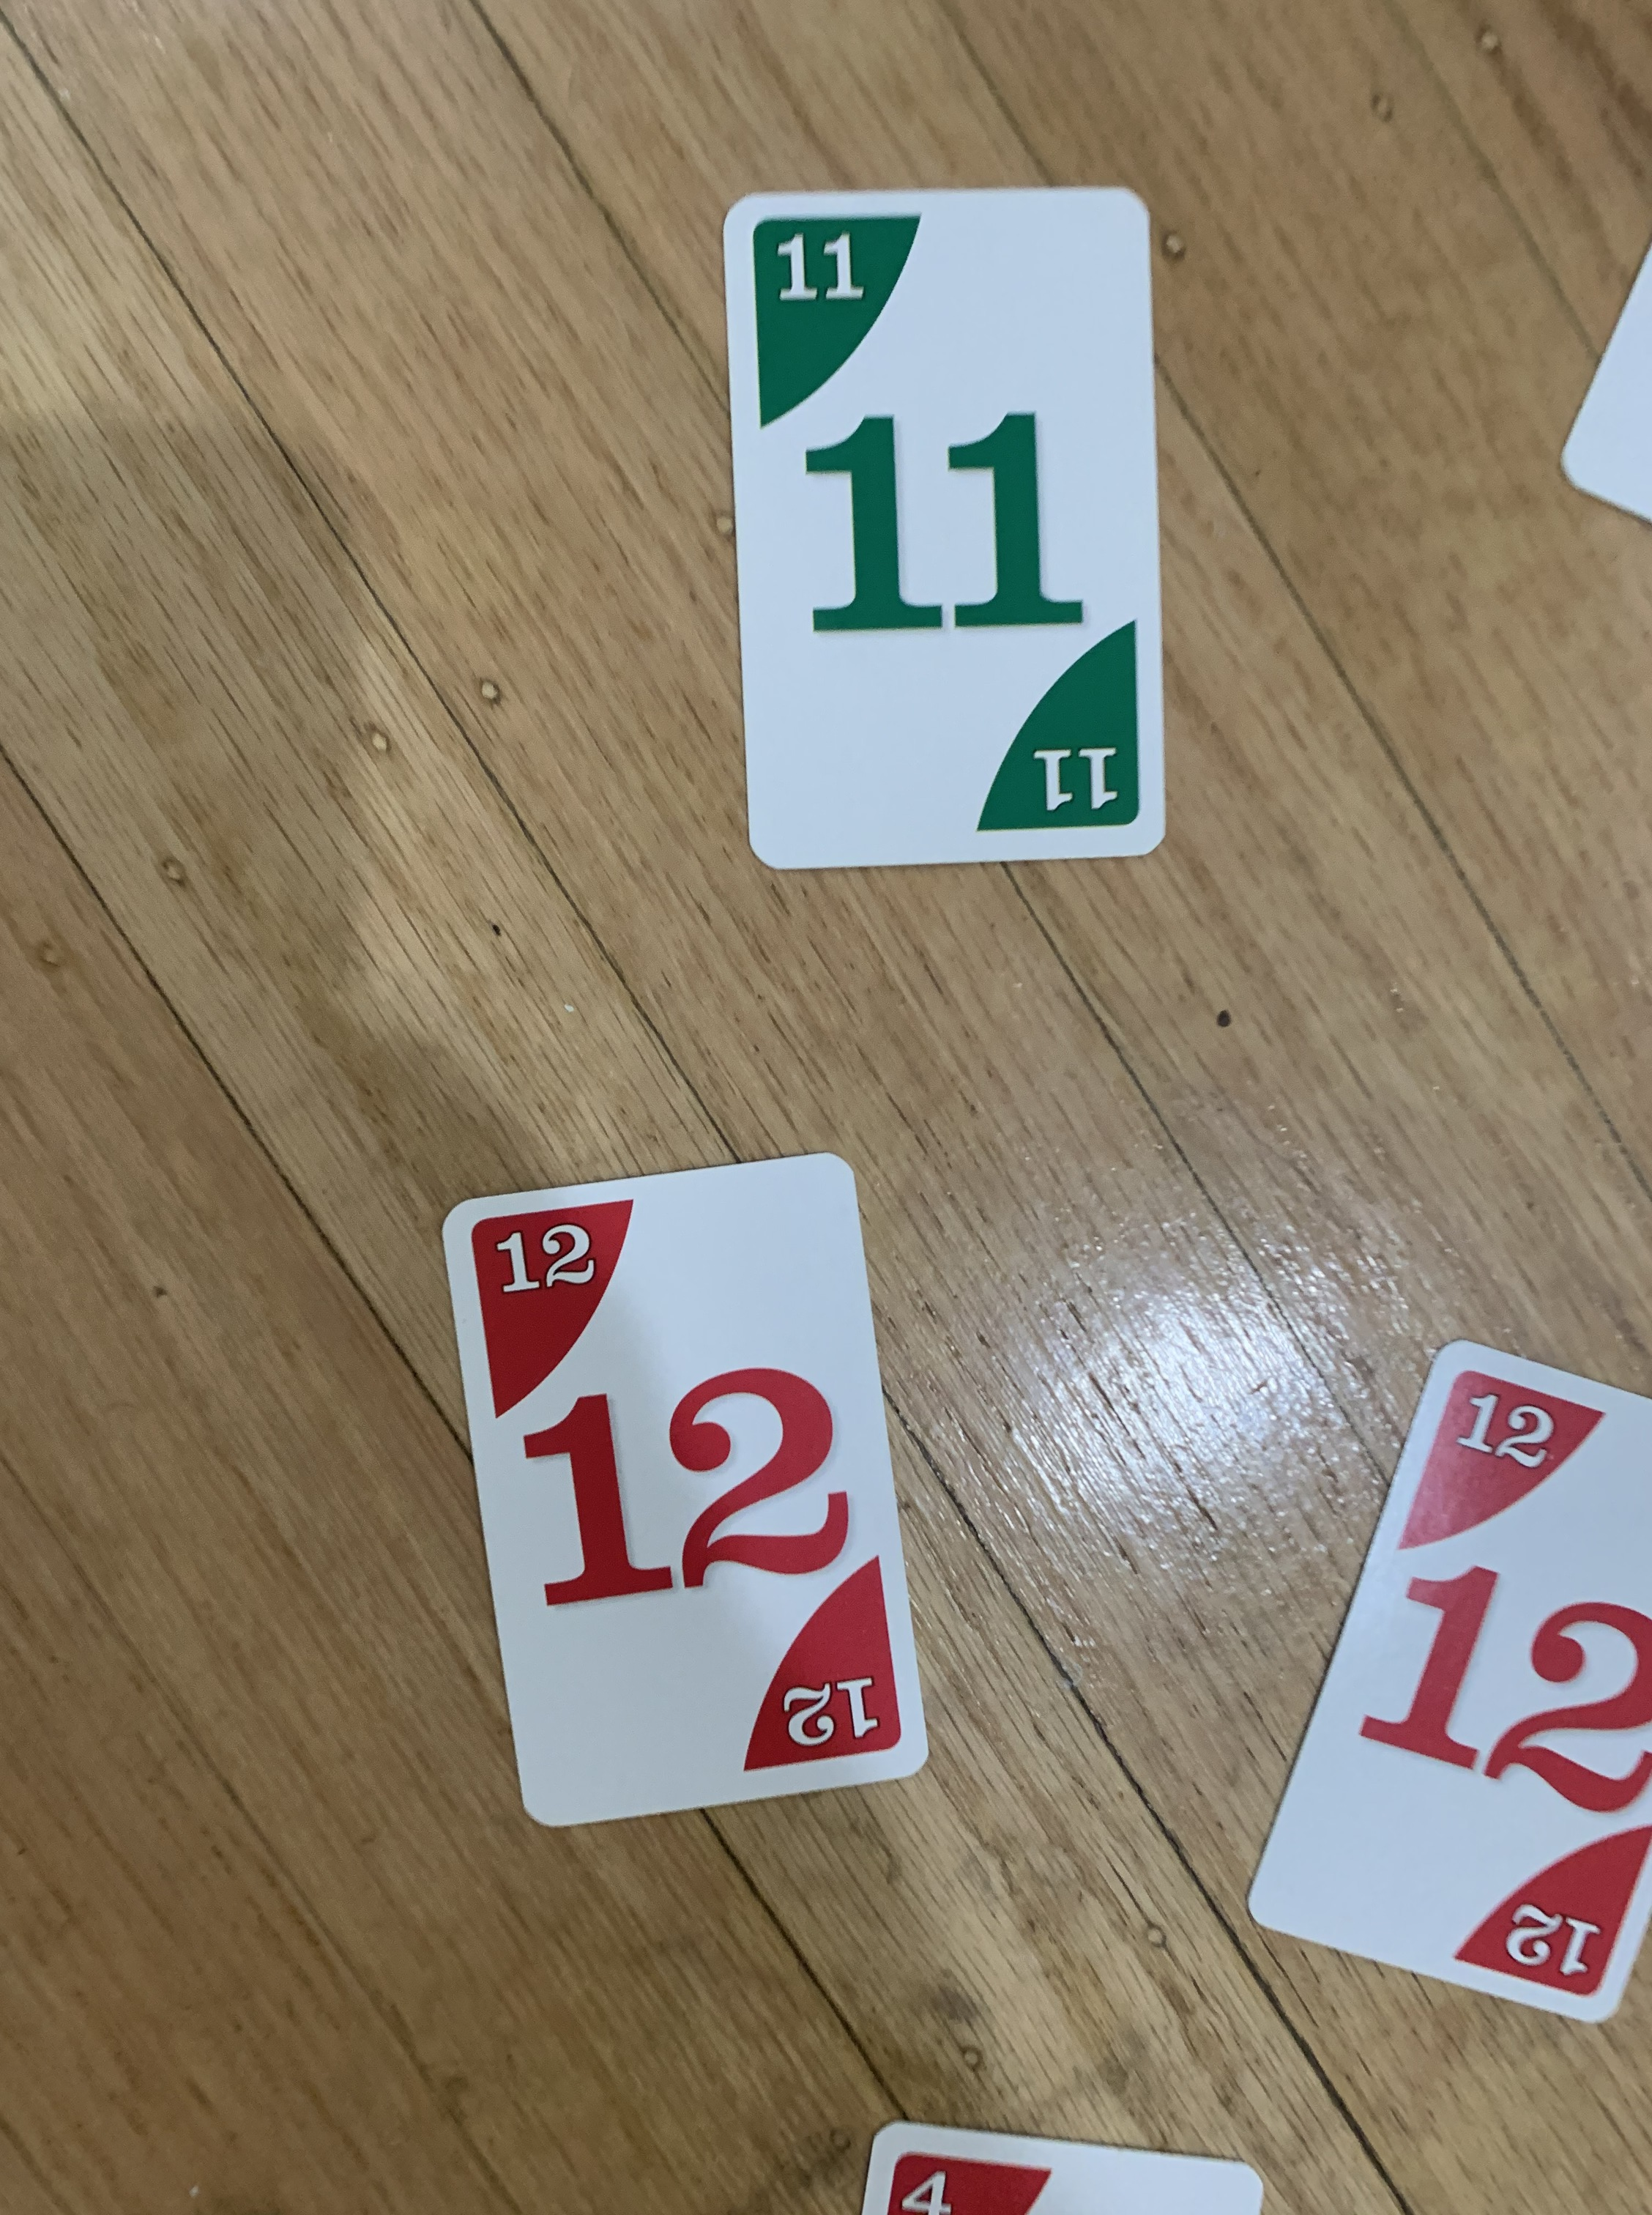eleven: (715, 174, 1175, 885)
twelve: (436, 1151, 935, 1837), (1237, 1338, 1652, 2033)
